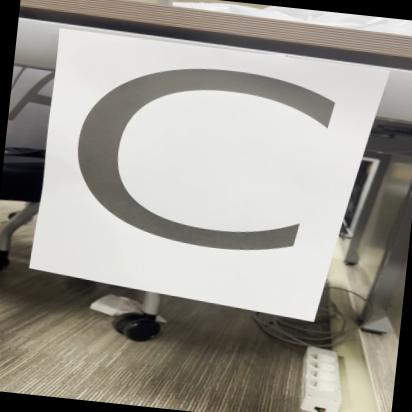seat: (37, 25, 358, 330)
